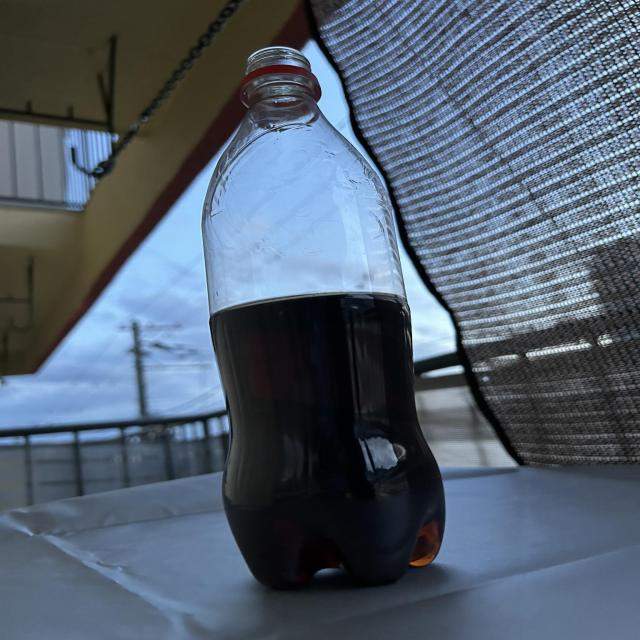medium: (202, 46, 445, 588)
